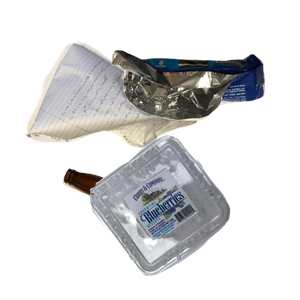glass: (60, 166, 241, 300)
paper: (23, 40, 223, 180)
plastic: (88, 133, 300, 300)
trash: (109, 47, 300, 160)
